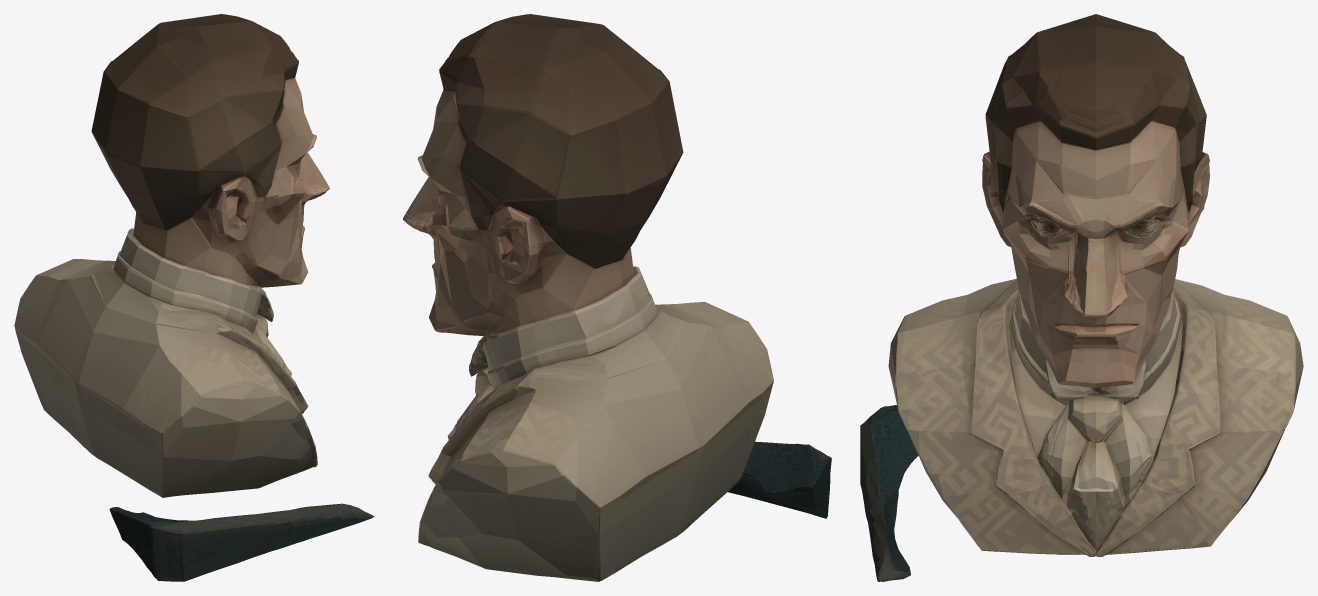
Rendered from tripo_convert_5d84d87b-ce1b-495a-bc75-2349c08802ad.fbx.
3 views of the same model, side by side, from view 1: azimuth 30°, elevation 25°; view 2: azimuth 150°, elevation 25°; view 3: azimuth 270°, elevation 25° (orthographic). The views are drawn at different scales.
Visible parts, largest first — view 1: tripo_node_5d84d87b; view 2: tripo_node_5d84d87b; view 3: tripo_node_5d84d87b.
Boxes of the visible parts, <box> form: tripo_node_5d84d87b: <box>14,14,374,581</box>; tripo_node_5d84d87b: <box>403,14,831,581</box>; tripo_node_5d84d87b: <box>860,14,1303,581</box>.
Size of the model in its own units: 0.6458 by 1 by 0.7691.
1 material, 1 textured.
